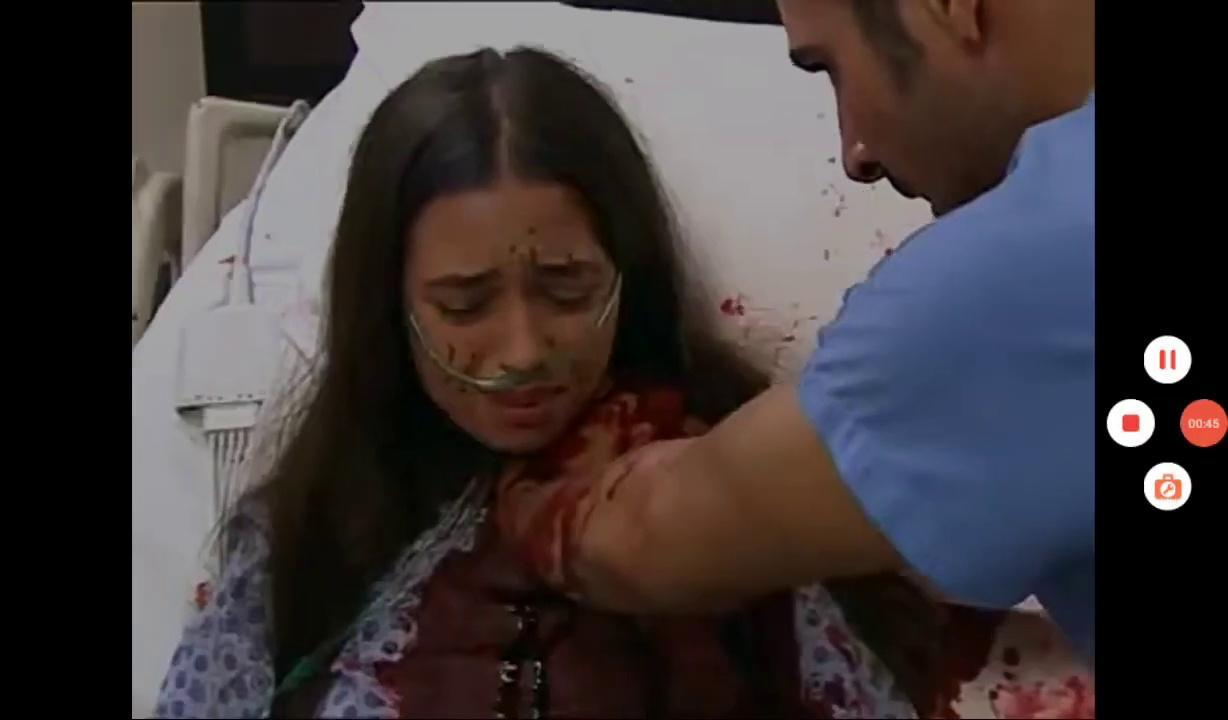Fire: (382, 387, 1095, 719), (410, 285, 617, 452)
